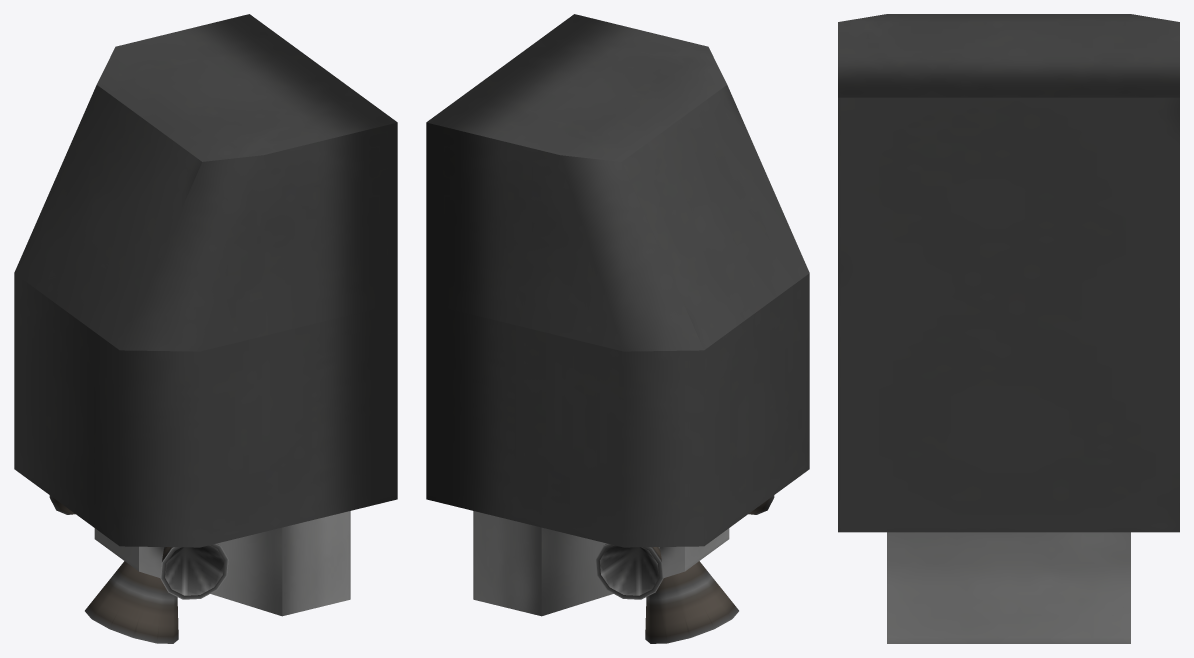
File: Transtage_RCS2.dae
3 views of the same model, side by side, from view 1: azimuth 30°, elevation 25°; view 2: azimuth 150°, elevation 25°; view 3: azimuth 270°, elevation 25° (orthographic). The views are drawn at different scales.
Parts seen in each view (by area): view 1: TranstageRCS1; view 2: TranstageRCS1; view 3: TranstageRCS1.
Boxes of the visible parts, x1,y1,x2,y2 form: TranstageRCS1: (14,14,397,643); TranstageRCS1: (426,14,809,643); TranstageRCS1: (838,14,1179,643).
Bounding box in the file's own units: 0.2145 × 0.4197 × 0.2145.
